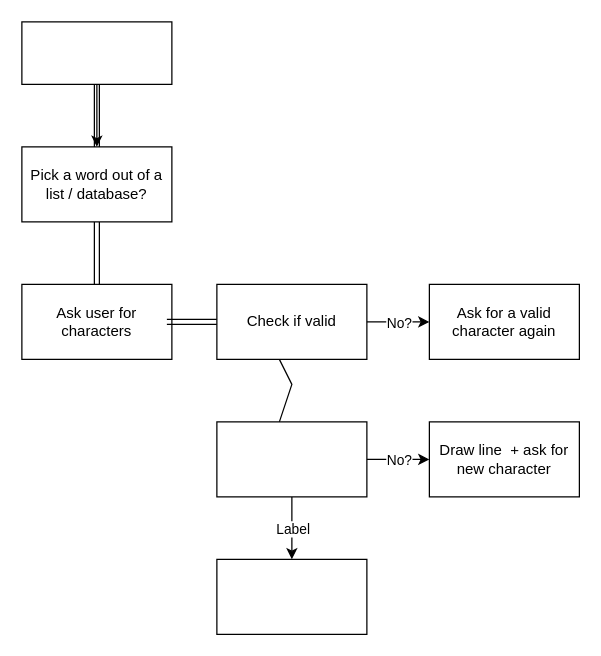
This 601x656 diagram has some shape labels left out. The shapes that lost their labels are listed below. From the top down, each one's box as (x1, y1, x2, y2) in pixels, then its label:
(21, 21, 172, 84): HANGMAN
(216, 421, 367, 497): Check if correct
